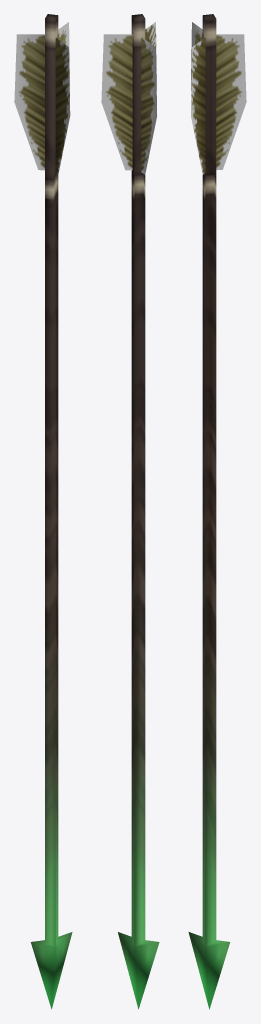
The model's file is r_arrow01.FBX.
3 views of the same model, side by side, from view 1: azimuth 30°, elevation 25°; view 2: azimuth 150°, elevation 25°; view 3: azimuth 330°, elevation 25° (orthographic).
Visible parts, largest first — view 1: r_arrow01; view 2: r_arrow01; view 3: r_arrow01.
Boxes of the visible parts, x1,y1,x2,y2 form: r_arrow01: [14, 14, 72, 1009]; r_arrow01: [101, 14, 159, 1009]; r_arrow01: [188, 14, 246, 1009].
Bounding box in the file's own units: 4.93 × 83.95 × 4.27.
